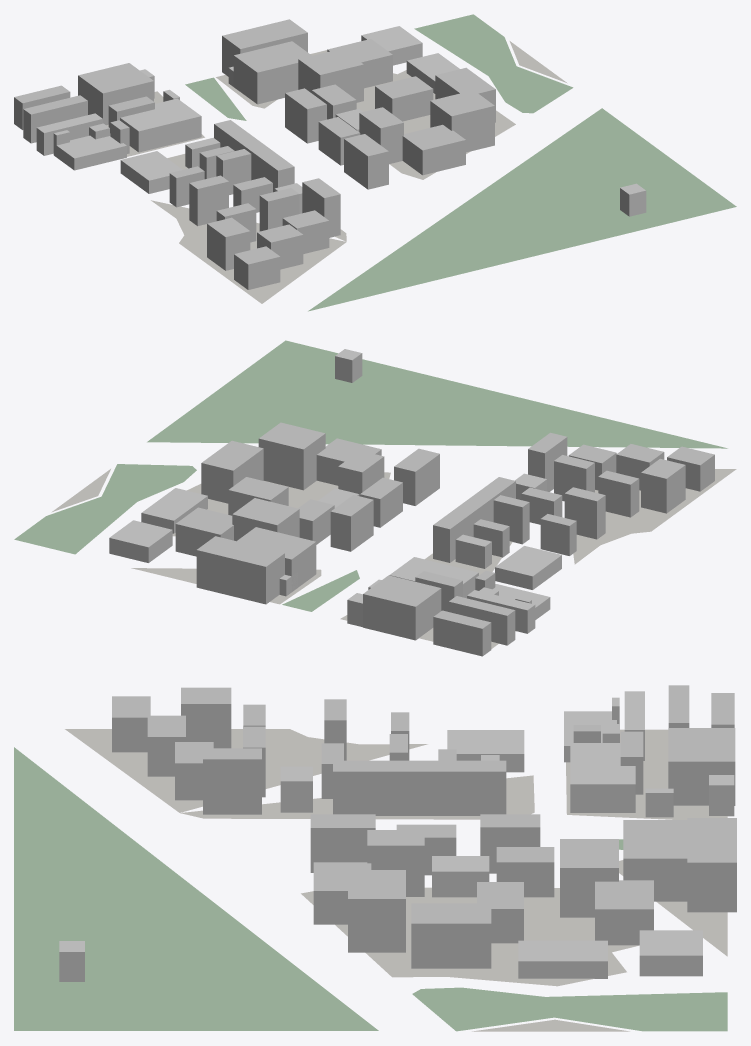
File: 104_108_mid.glb
The picture shows the model from 3 angles, top to bottom: view 1: azimuth 30°, elevation 25°; view 2: azimuth 150°, elevation 25°; view 3: azimuth 270°, elevation 25°; orthographic projection. The views are drawn at different scales.
Size of the model in its own units: 512 by 43.61 by 506.
